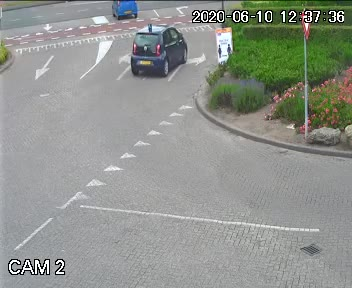car: (126, 20, 182, 85), (108, 0, 141, 21)
